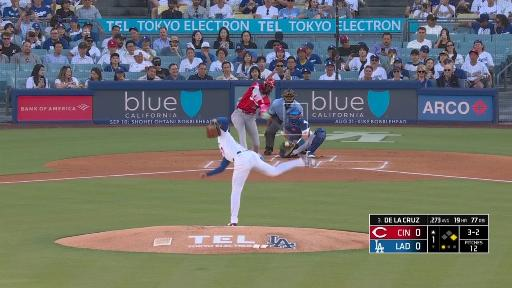pitcher: (200, 117, 318, 226)
